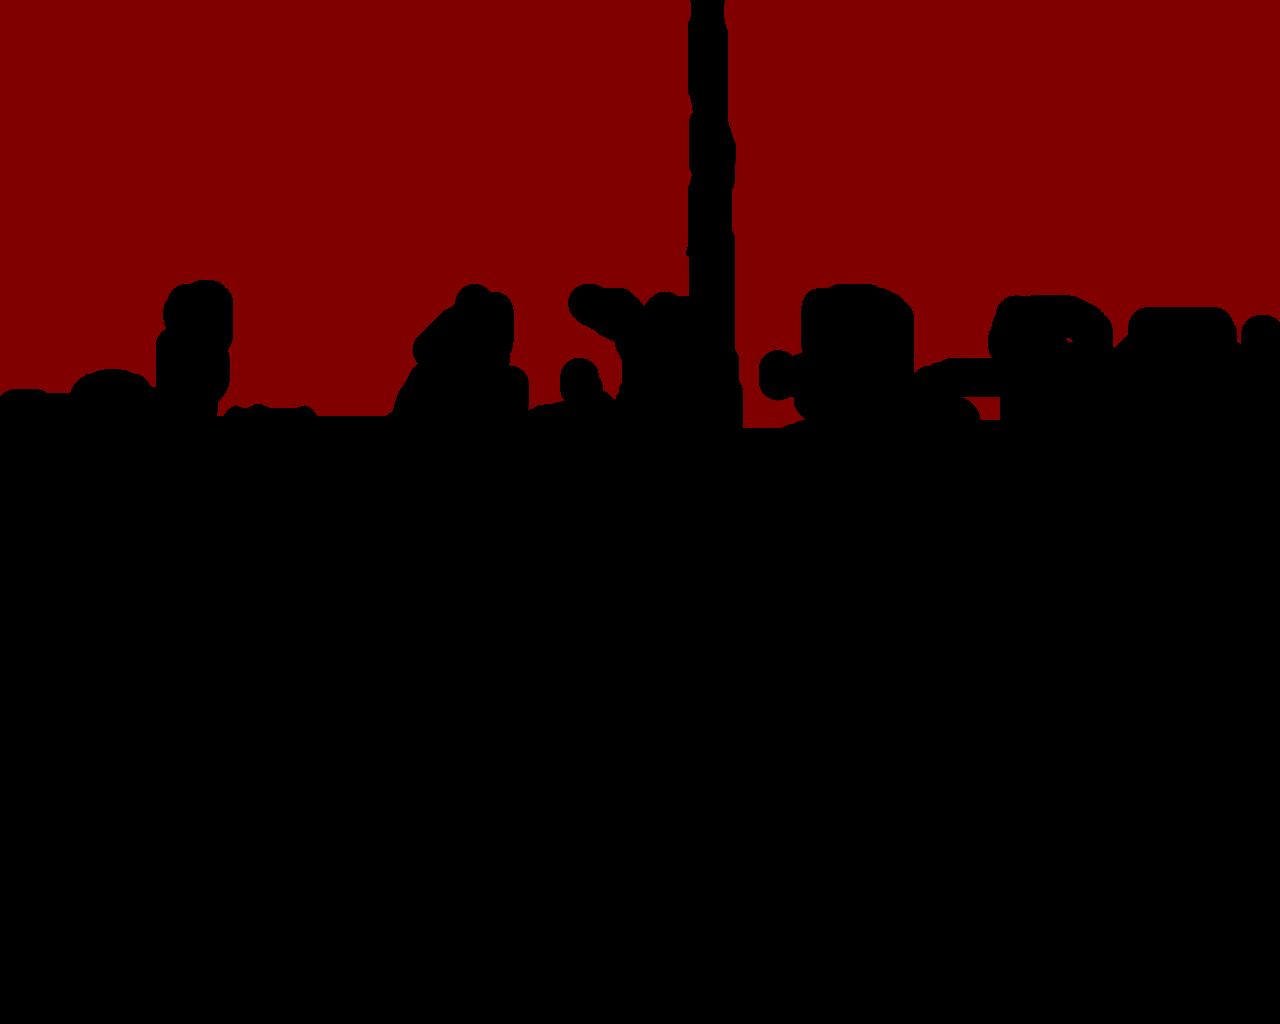Sky: (1, 1, 1279, 428)
